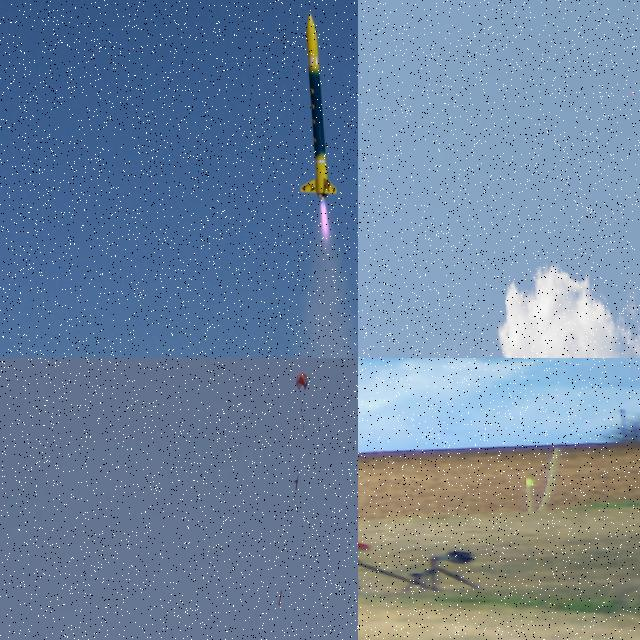Rocket: (299, 11, 339, 199), (358, 494, 370, 555), (278, 589, 282, 607), (631, 91, 636, 96)
